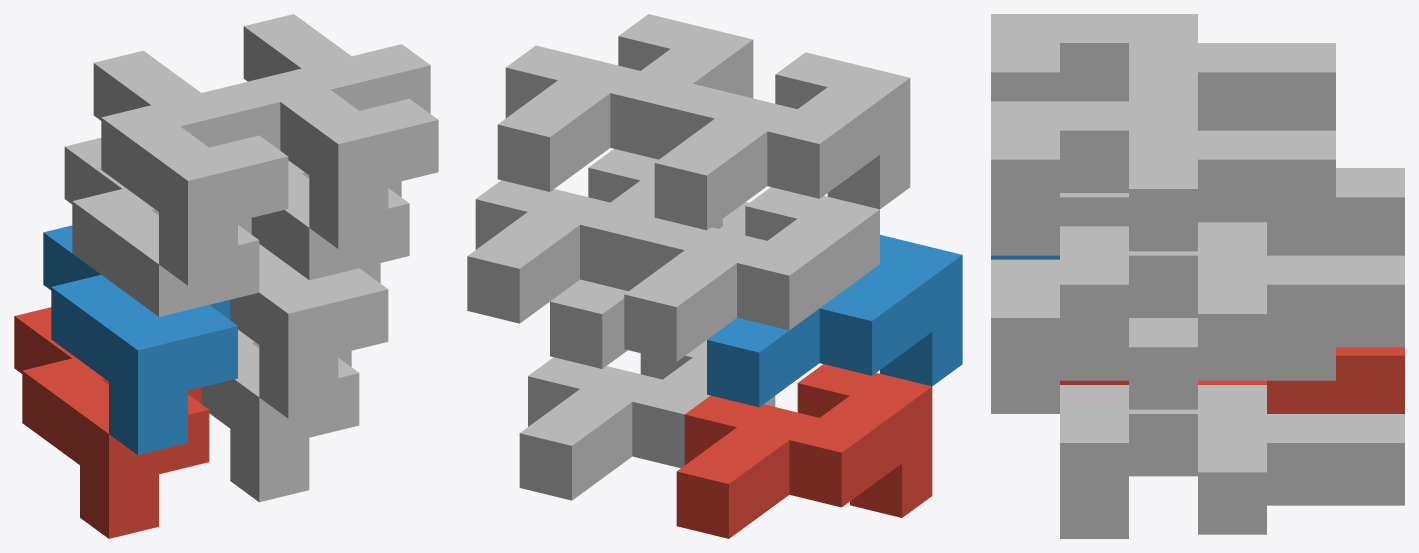
Rendered from tiling.obj.
The picture shows the model from 3 angles, left to right: view 1: azimuth 30°, elevation 25°; view 2: azimuth 150°, elevation 25°; view 3: azimuth 270°, elevation 25°; orthographic projection. The views are drawn at different scales.
Visible parts, largest first — view 1: copy_1_domain_4, copy_1_domain_8, copy_1_domain_2, copy_1_domain_1, copy_1_domain_6, copy_1_domain_3, copy_1_domain_5, copy_1_domain_7; view 2: copy_1_domain_4, copy_1_domain_1, copy_1_domain_3, copy_1_domain_8, copy_1_domain_2, copy_1_domain_7, copy_1_domain_5, copy_1_domain_6; view 3: copy_1_domain_8, copy_1_domain_7, copy_1_domain_5, copy_1_domain_4, copy_1_domain_6, copy_1_domain_3, copy_1_domain_1.
Part boxes in pixels (<box>): copy_1_domain_4: <box>93,50,288,285</box>; copy_1_domain_8: <box>243,14,438,248</box>; copy_1_domain_2: <box>43,225,237,455</box>; copy_1_domain_1: <box>14,307,209,538</box>; copy_1_domain_6: <box>230,244,388,418</box>; copy_1_domain_3: <box>64,137,259,316</box>; copy_1_domain_5: <box>201,329,359,502</box>; copy_1_domain_7: <box>251,160,409,280</box>; copy_1_domain_4: <box>654,52,910,230</box>; copy_1_domain_1: <box>676,364,932,538</box>; copy_1_domain_3: <box>624,187,879,361</box>; copy_1_domain_8: <box>497,14,753,191</box>; copy_1_domain_2: <box>707,234,962,407</box>; copy_1_domain_7: <box>467,149,722,323</box>; copy_1_domain_5: <box>519,340,775,500</box>; copy_1_domain_6: <box>550,202,748,368</box>; copy_1_domain_8: <box>991,101,1335,255</box>; copy_1_domain_7: <box>1060,226,1404,380</box>; copy_1_domain_5: <box>1060,385,1404,538</box>; copy_1_domain_4: <box>991,14,1335,130</box>; copy_1_domain_6: <box>991,259,1335,413</box>; copy_1_domain_3: <box>1060,168,1404,255</box>; copy_1_domain_1: <box>1060,347,1404,413</box>.
Size of the model in its own units: 7 by 7 by 6.
